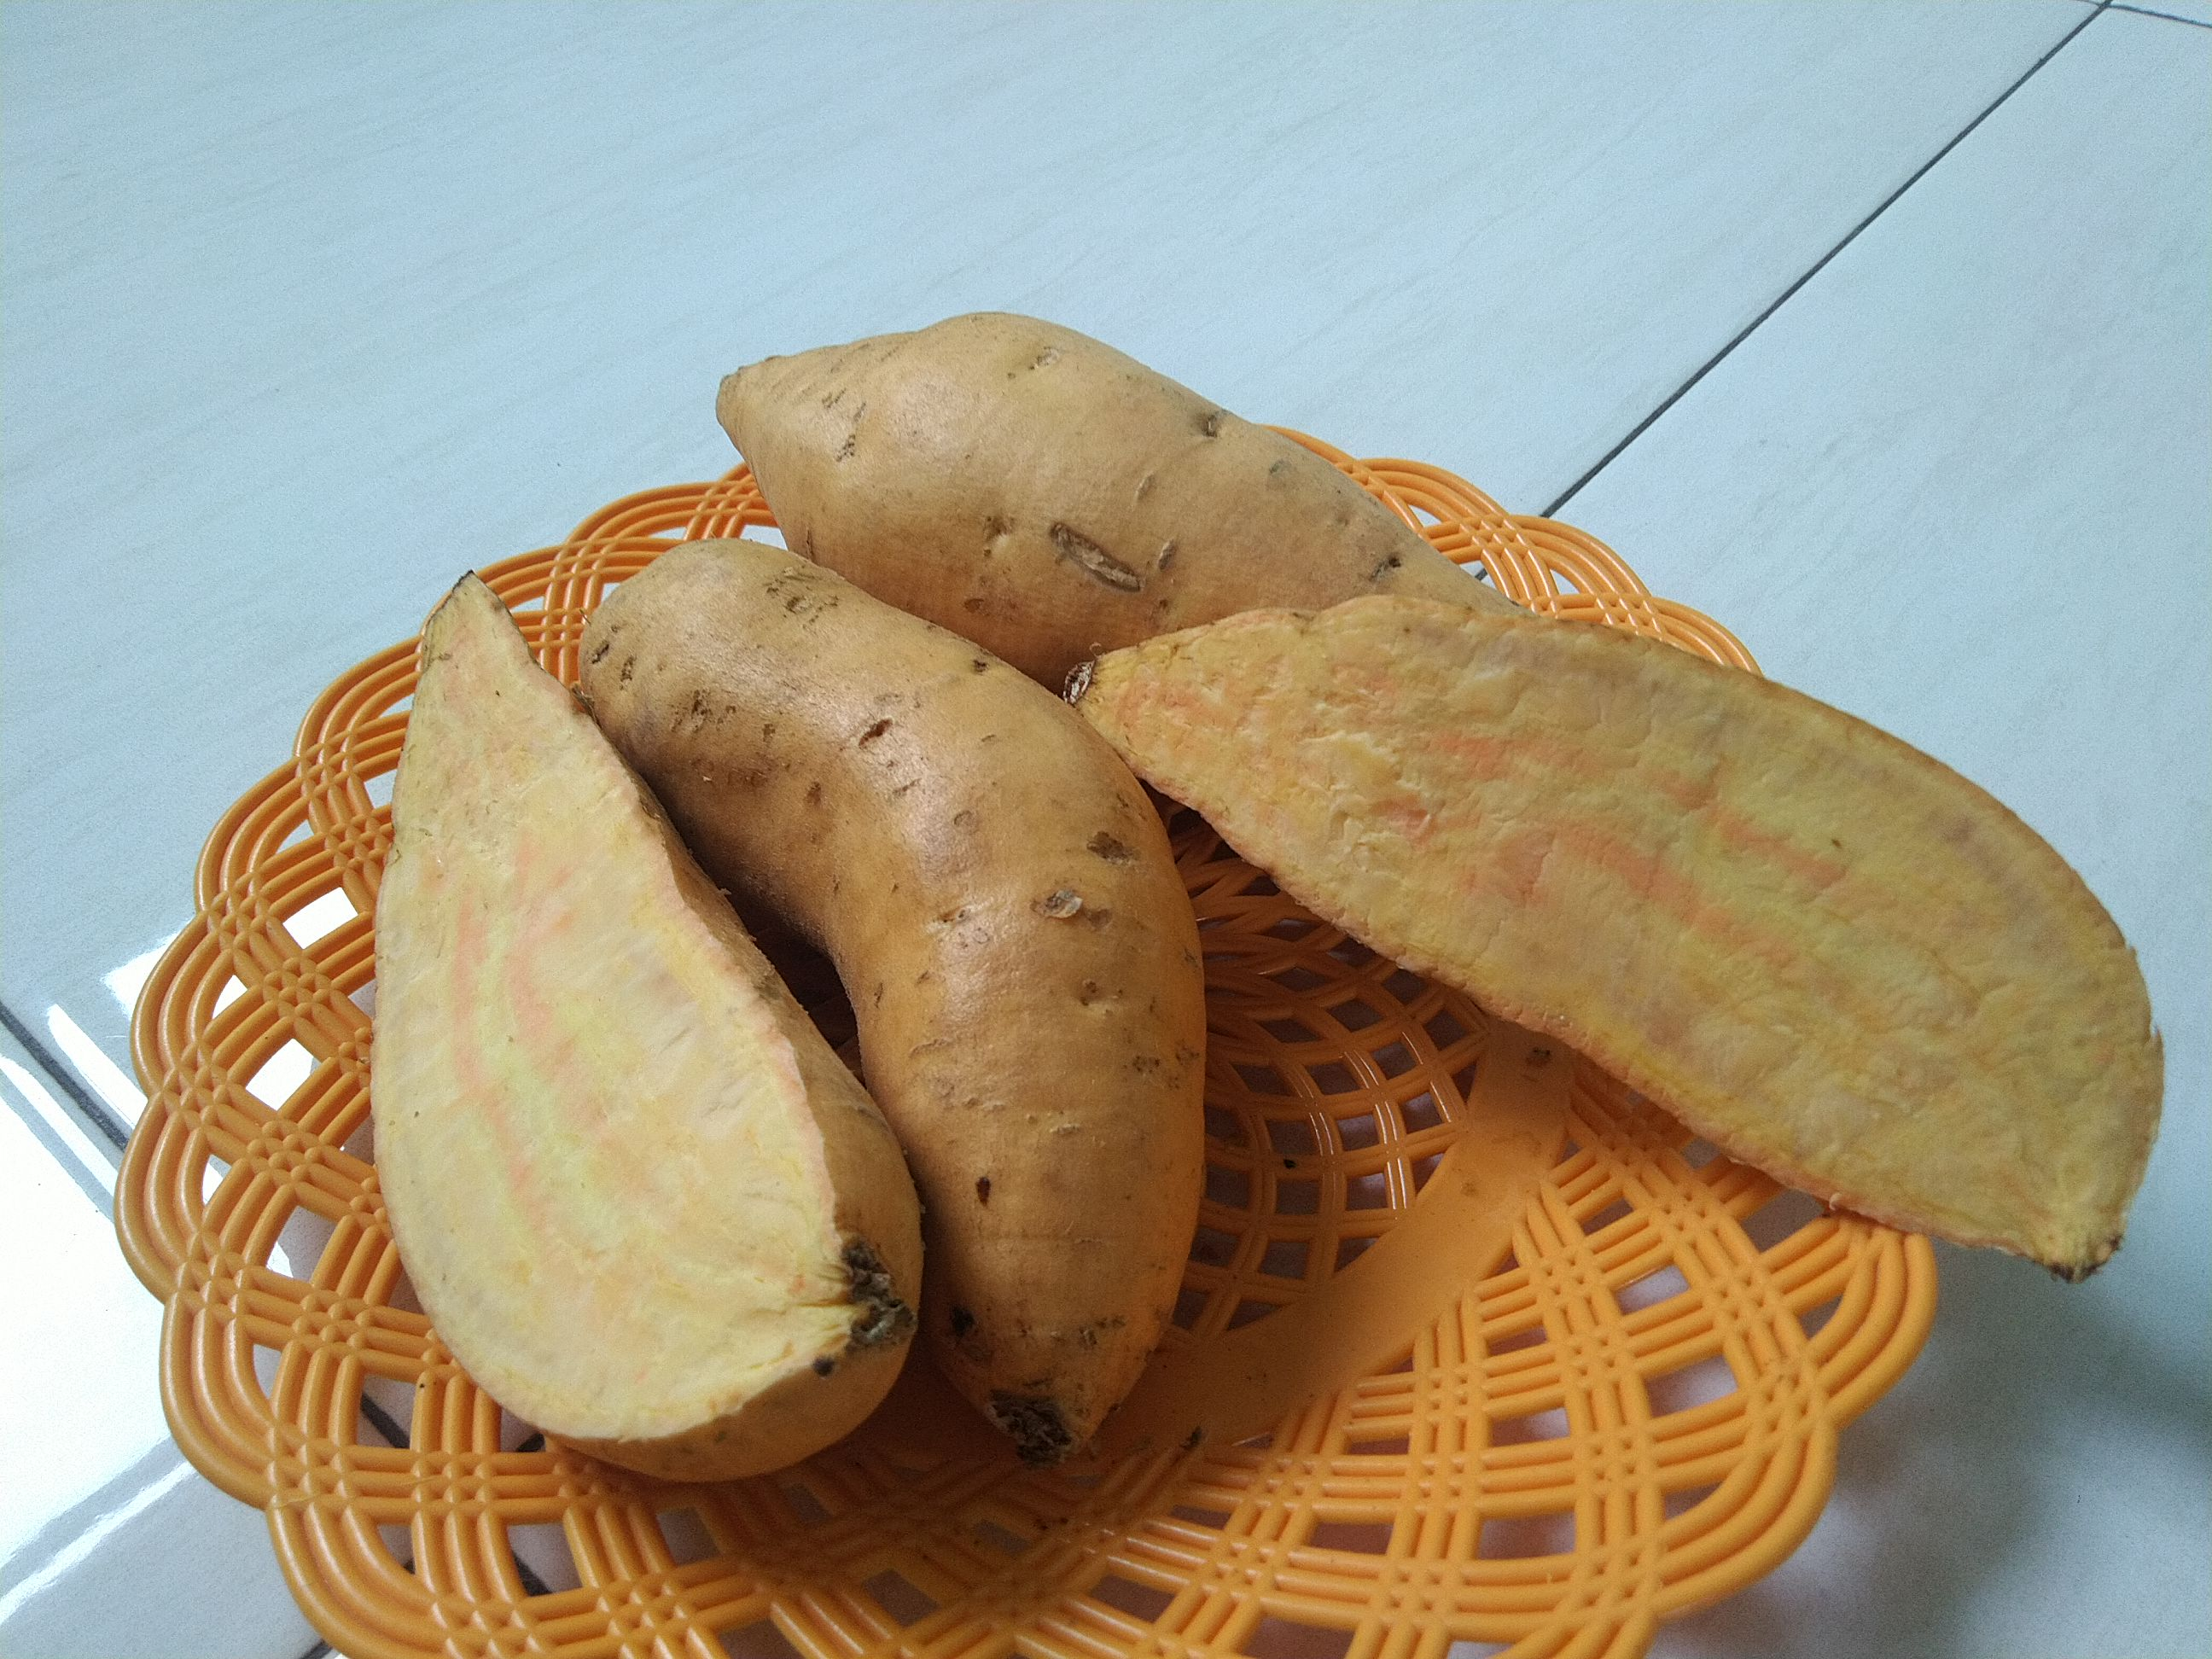ubi cilembu: (1064, 579, 2161, 1295), (568, 528, 1245, 1452), (380, 566, 913, 1466), (712, 308, 1477, 652)
